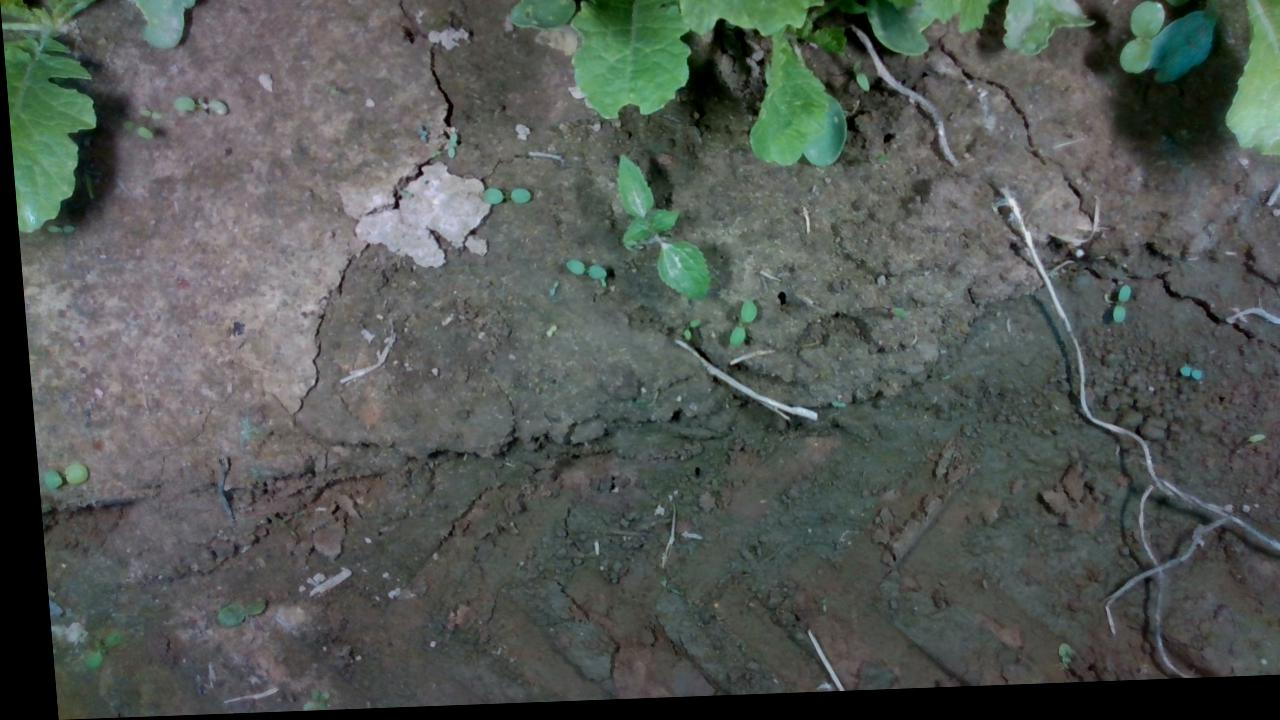weed: (607, 153, 707, 311), (717, 303, 754, 356), (169, 94, 227, 118), (32, 462, 81, 490), (473, 188, 529, 209), (1103, 291, 1126, 332), (117, 119, 152, 142), (674, 320, 697, 347), (436, 133, 457, 161), (132, 105, 161, 122), (1170, 372, 1194, 390), (540, 281, 555, 299), (412, 126, 425, 146), (537, 326, 551, 342)
